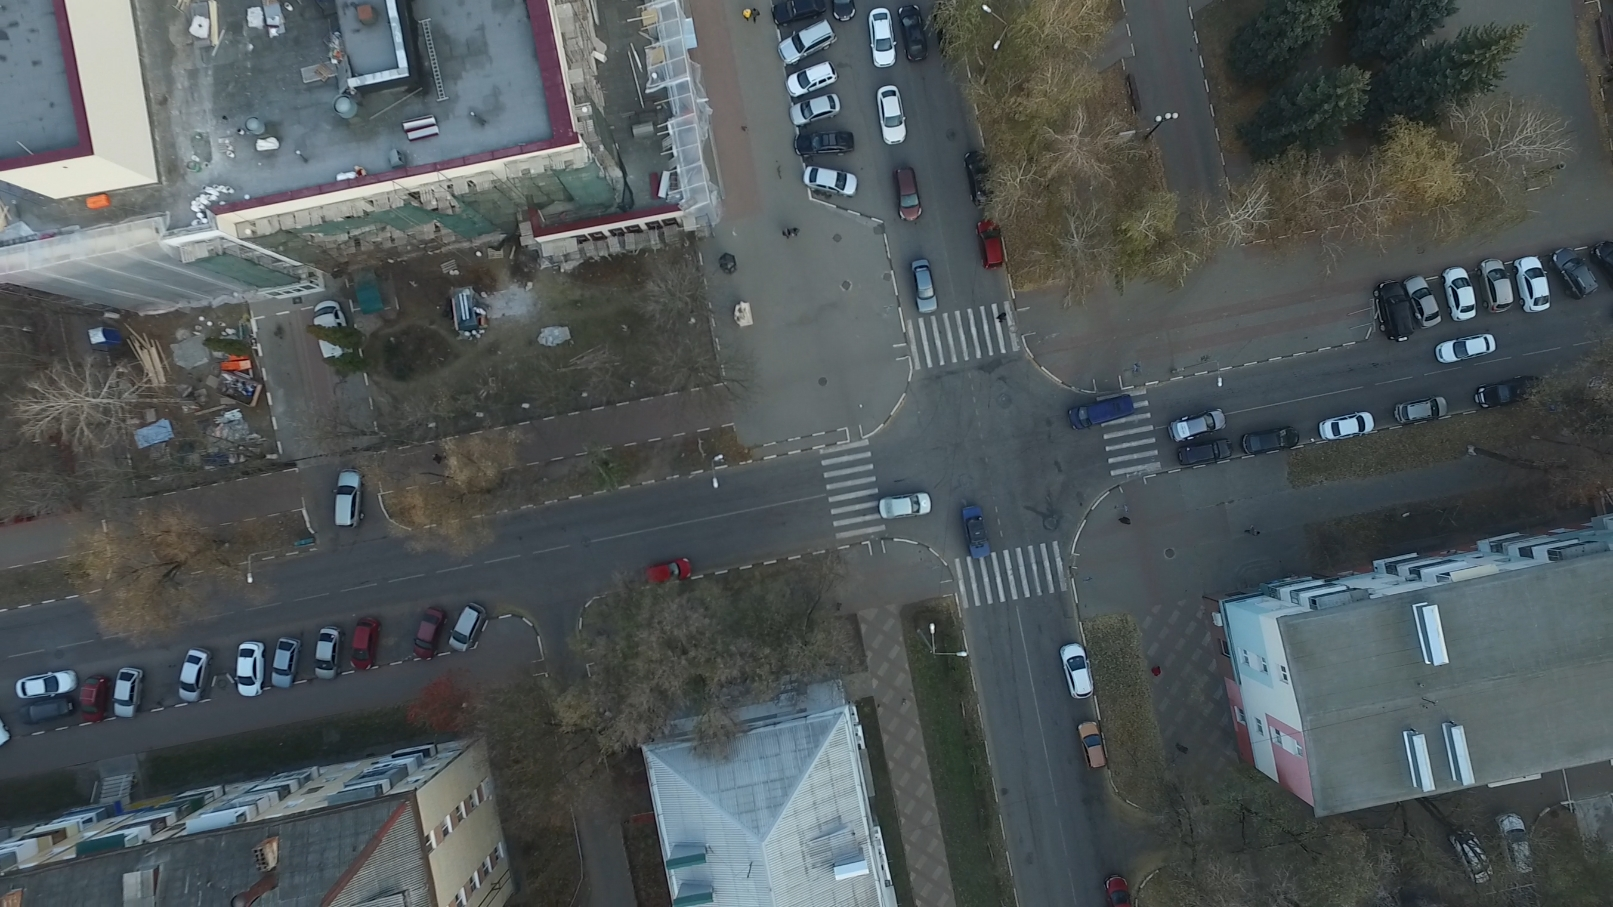car: (1497, 815, 1549, 879), (1449, 824, 1500, 887), (773, 22, 838, 65), (1371, 280, 1414, 344), (311, 300, 356, 361), (1064, 392, 1134, 430), (1551, 247, 1597, 301), (1403, 274, 1442, 333), (1512, 254, 1551, 315), (1475, 377, 1544, 410), (174, 648, 214, 703), (331, 470, 366, 532), (1058, 643, 1096, 700), (1440, 266, 1477, 322), (1476, 258, 1512, 315), (1165, 409, 1225, 443), (895, 6, 931, 61), (867, 7, 898, 70), (446, 601, 483, 655), (1434, 332, 1496, 363), (785, 91, 842, 124), (1395, 393, 1449, 427), (875, 86, 906, 146), (963, 152, 995, 209), (347, 618, 381, 671), (804, 165, 857, 199), (784, 60, 838, 93), (412, 607, 444, 660), (962, 505, 993, 559), (1317, 412, 1375, 441), (911, 258, 939, 315), (895, 167, 925, 221), (1174, 439, 1232, 466), (974, 218, 1004, 271), (236, 642, 265, 697), (269, 636, 299, 688), (876, 492, 932, 519), (78, 679, 110, 726), (113, 667, 141, 721), (643, 557, 694, 586), (1243, 427, 1299, 453), (769, 1, 828, 25), (794, 131, 857, 153), (1075, 722, 1105, 769), (315, 626, 339, 680), (17, 674, 82, 693), (1105, 874, 1136, 907), (831, 1, 859, 24)
